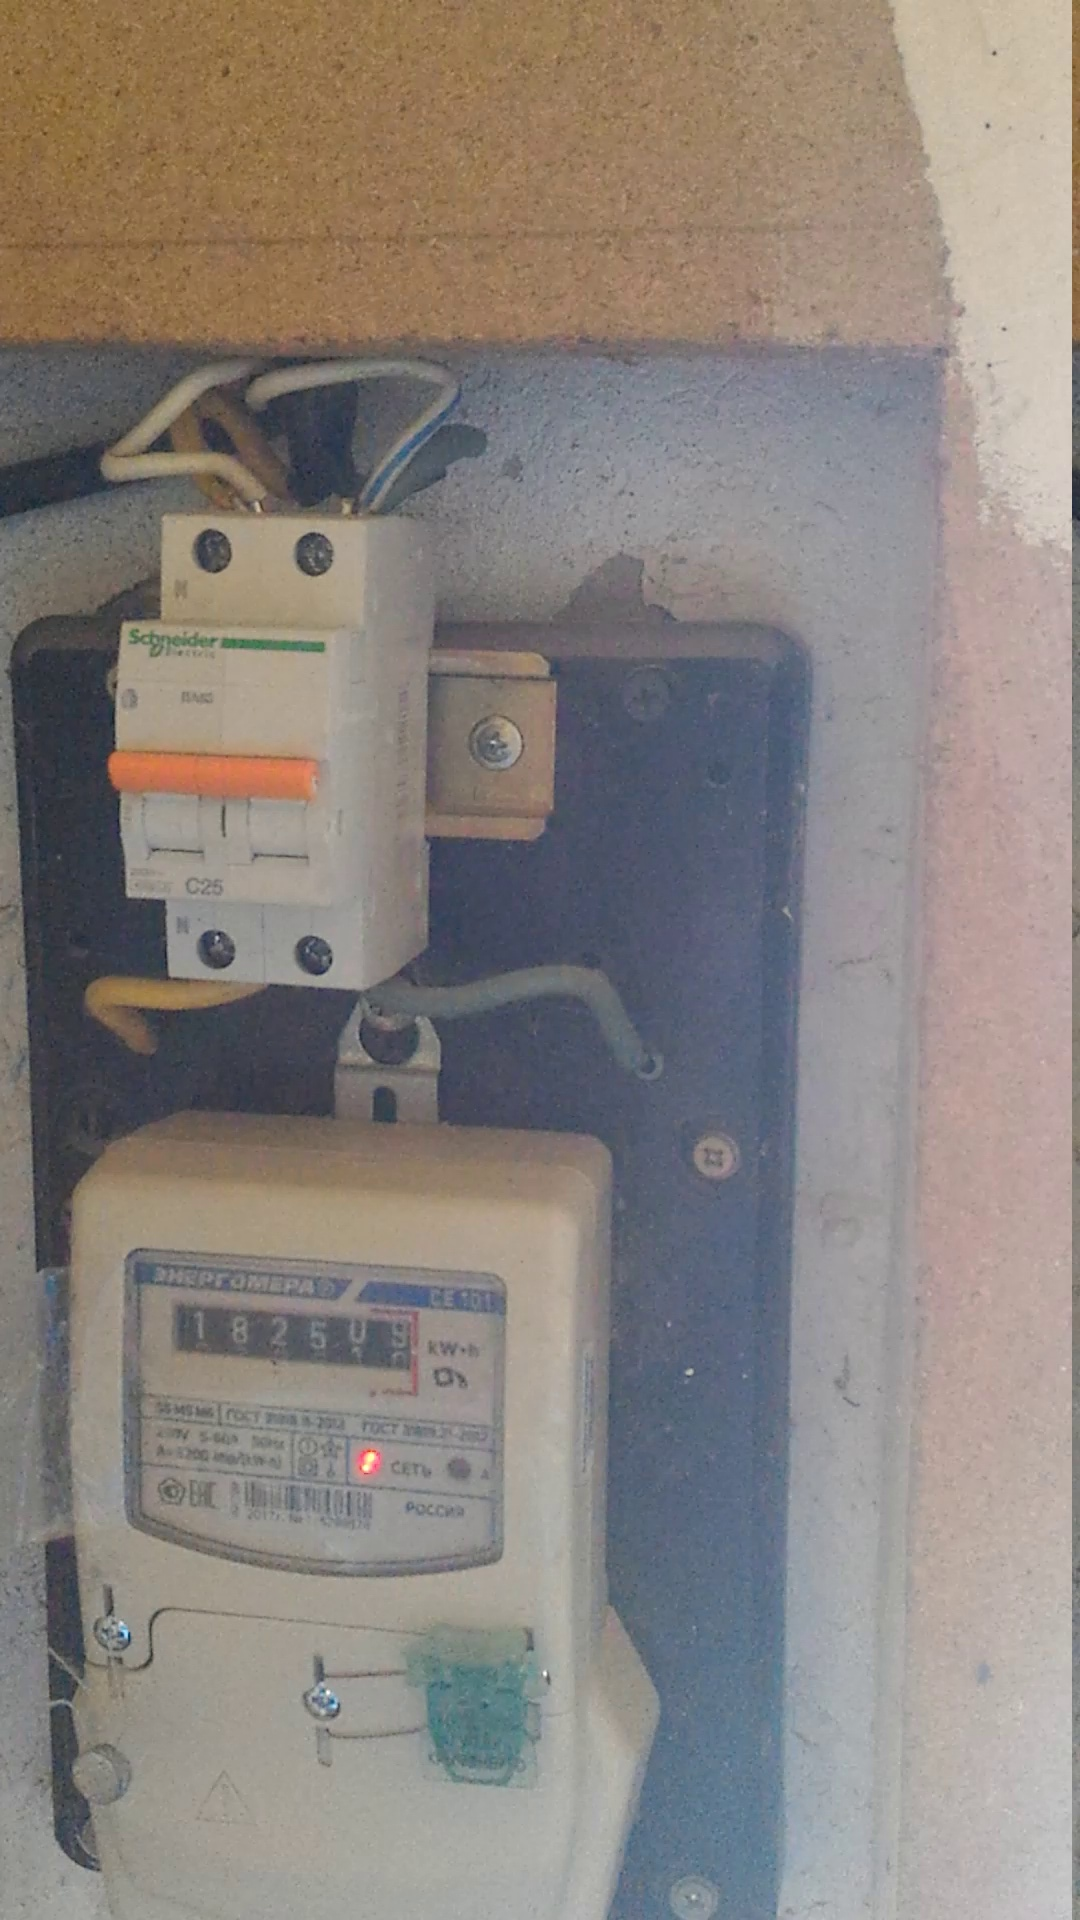counter: (67, 1171, 645, 1913)
counter_screen: (171, 1302, 418, 1377)
